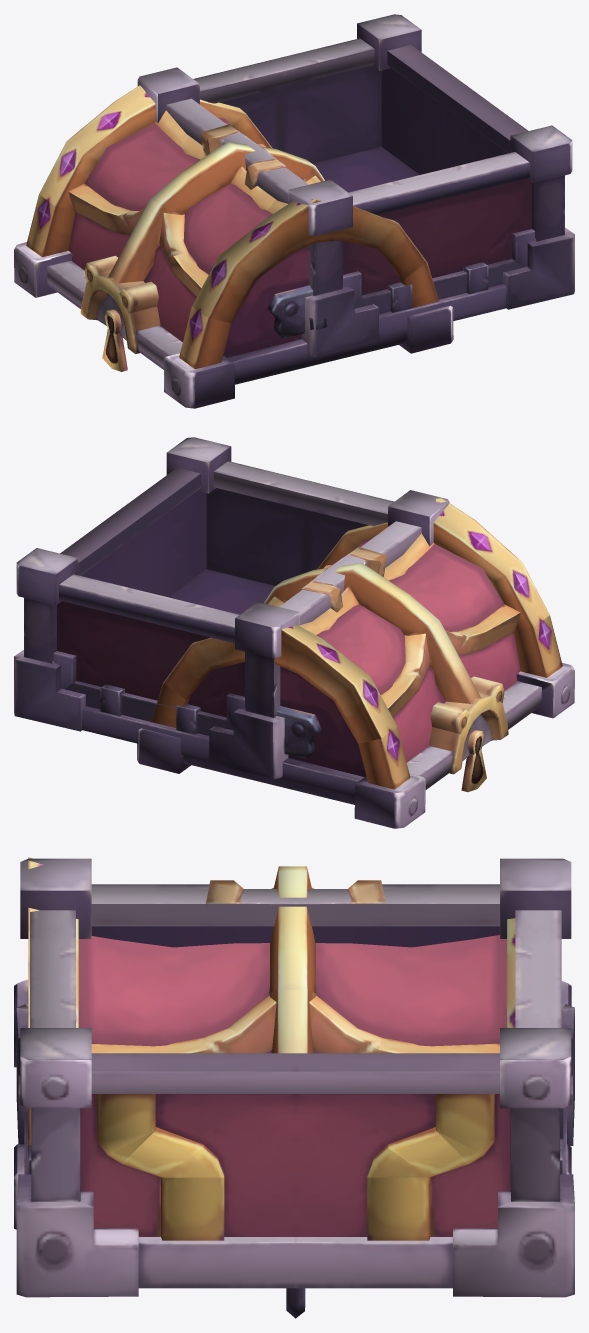
File: NPC_000C1_Case.FBX
The picture shows the model from 3 angles, top to bottom: view 1: azimuth 30°, elevation 25°; view 2: azimuth 150°, elevation 25°; view 3: azimuth 270°, elevation 25°; orthographic projection. The views are drawn at different scales.
Parts seen in each view (by area): view 1: NPC_000C1_Case_base, NPC_000C1_Case_lid; view 2: NPC_000C1_Case_base, NPC_000C1_Case_lid; view 3: NPC_000C1_Case_base, NPC_000C1_Case_lid.
Part boxes in pixels (x1=…): NPC_000C1_Case_base: x1=137, y1=14, x2=574, y2=357; NPC_000C1_Case_lid: x1=14, y1=85, x2=453, y2=408; NPC_000C1_Case_base: x1=14, y1=437, x2=449, y2=779; NPC_000C1_Case_lid: x1=137, y1=497, x2=574, y2=828; NPC_000C1_Case_base: x1=16, y1=858, x2=574, y2=1297; NPC_000C1_Case_lid: x1=14, y1=857, x2=571, y2=1229.
Bounding box in the file's own units: 0.0164 × 0.00896 × 0.0131.
Materials: 1 (1 with a texture image).
